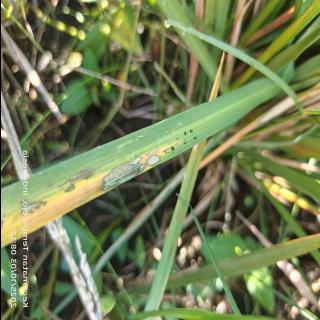Blast: (94, 139, 163, 197)
Hawar-Daun: (28, 177, 95, 229)
